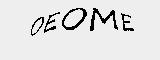Е: (42, 9, 61, 36), (120, 10, 135, 32)
М: (88, 6, 117, 32)
О: (60, 5, 86, 32), (27, 14, 44, 40)
